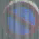No waiting: (2, 0, 37, 38)
